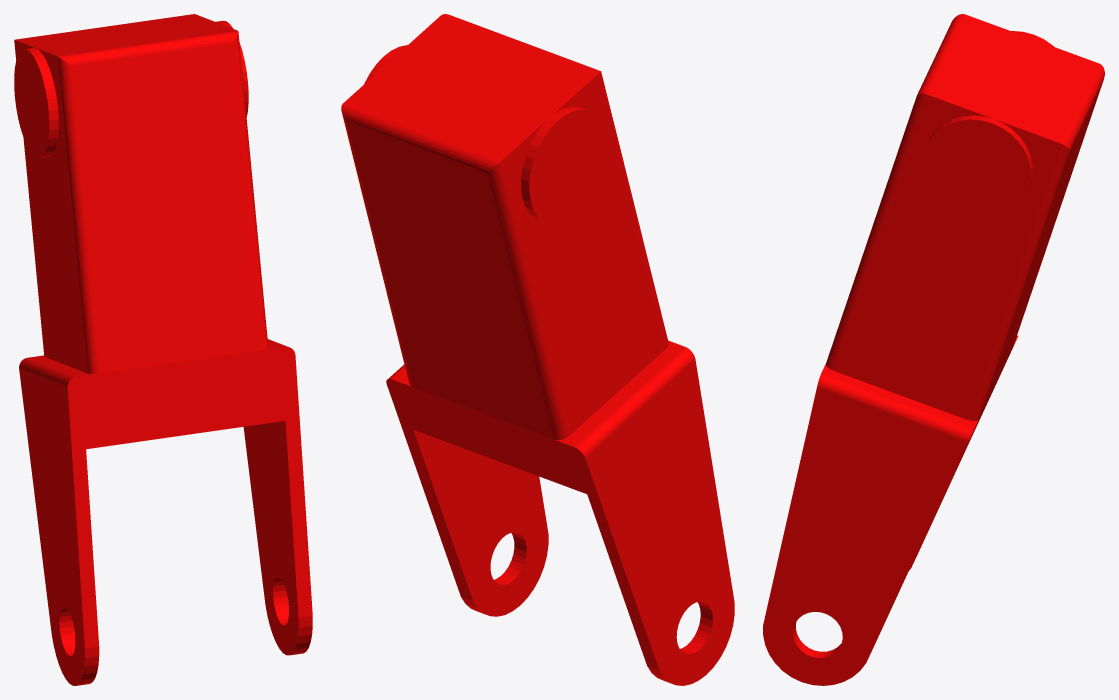
File: bicep_b.obj
3 views of the same model, side by side, from view 1: azimuth 30°, elevation 25°; view 2: azimuth 150°, elevation 25°; view 3: azimuth 270°, elevation 25° (orthographic). The views are drawn at different scales.
Visible parts, largest first — view 1: bicep_b.001; view 2: bicep_b.001; view 3: bicep_b.001.
Part boxes in pixels (<box>): bicep_b.001: <box>14,14,312,685</box>; bicep_b.001: <box>341,14,734,685</box>; bicep_b.001: <box>763,14,1104,685</box>.
Size of the model in its own units: 55.13 by 128 by 67.09.
